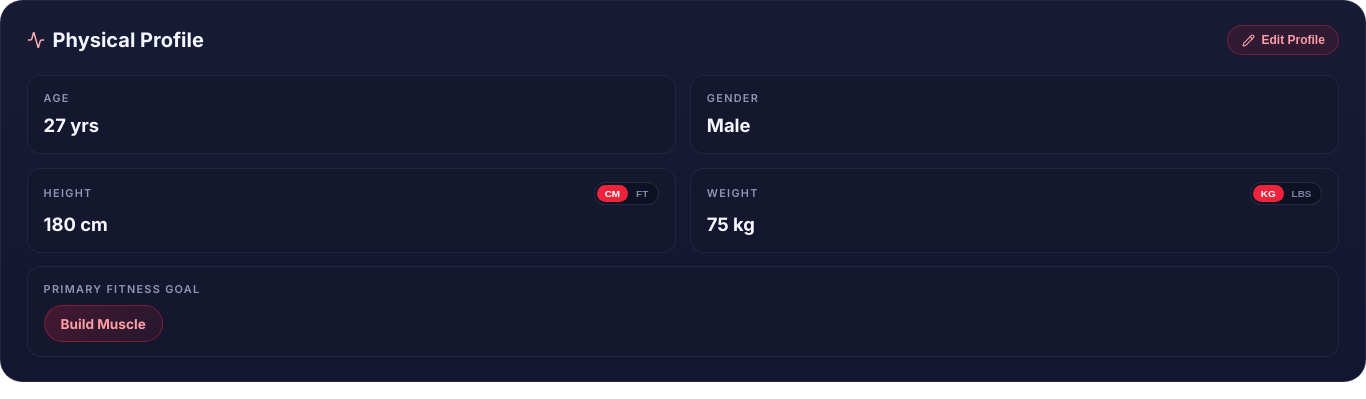
Test: PhysicalProfileCard › cancels edit mode without saving
The image size is (1366, 399).
Click the button with test id "edit-physical-profile-btn" at (1283, 40), box [1228, 25, 1339, 55]
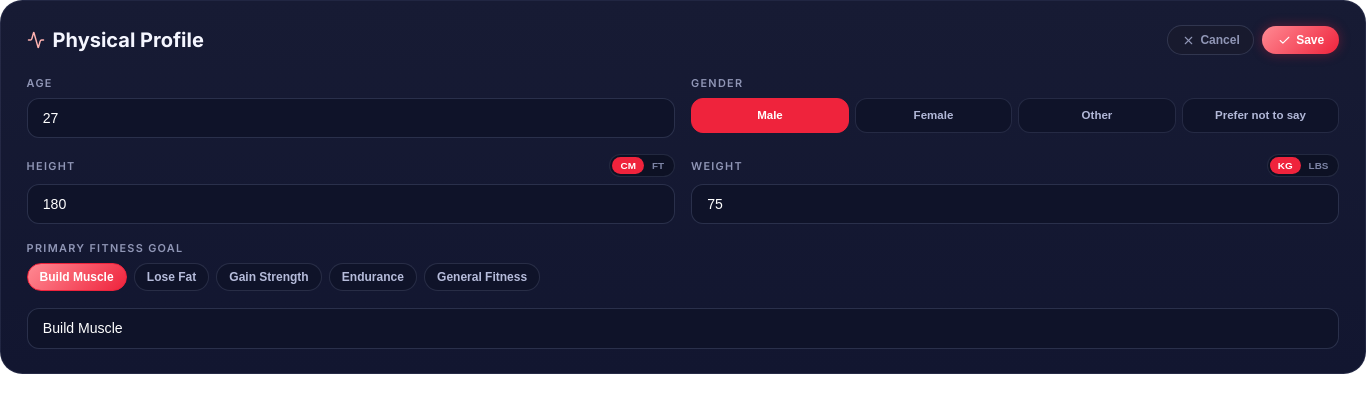
Check: the button with test id "save-physical-profile-btn" is shown, box [1262, 26, 1339, 54]
Click the button "Cancel" at (1211, 40), box [1167, 25, 1254, 55]
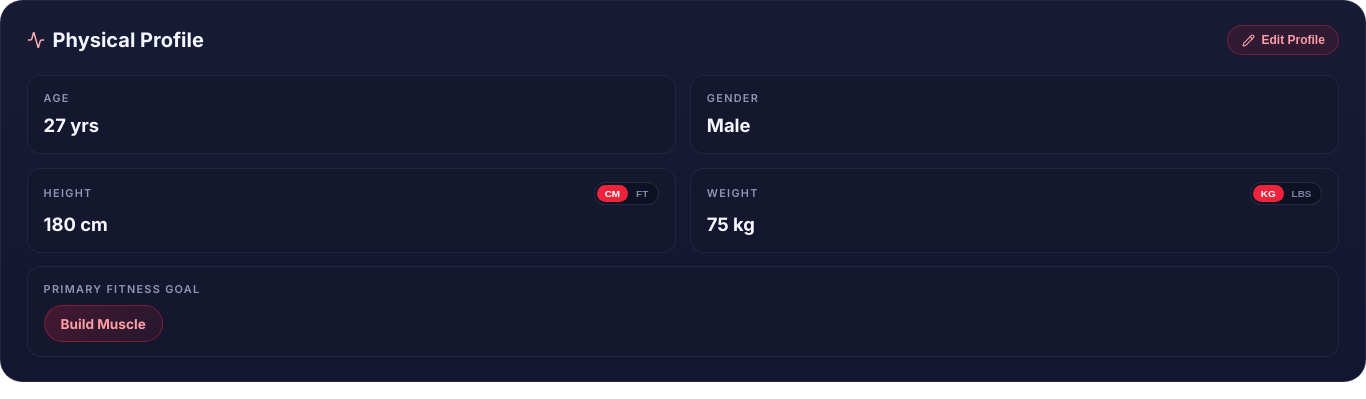
Check: the button with test id "edit-physical-profile-btn" is shown, box [1228, 25, 1339, 55]
Check: the button with test id "save-physical-profile-btn" is gone
